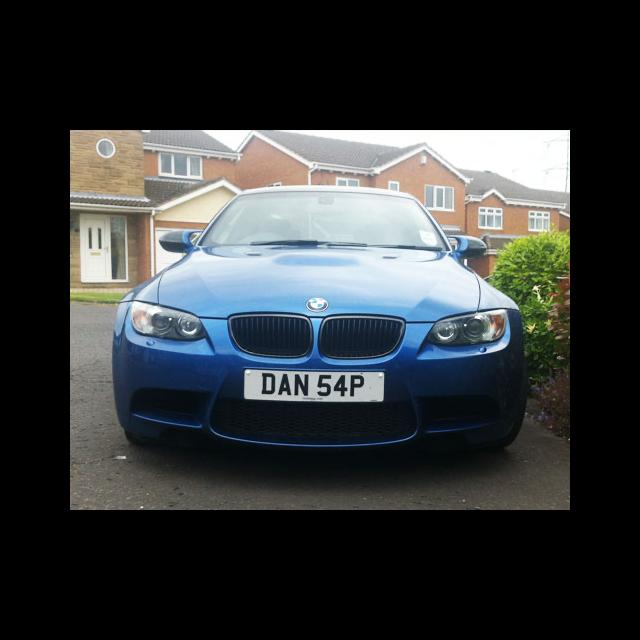Plate: (242, 367, 385, 403)
